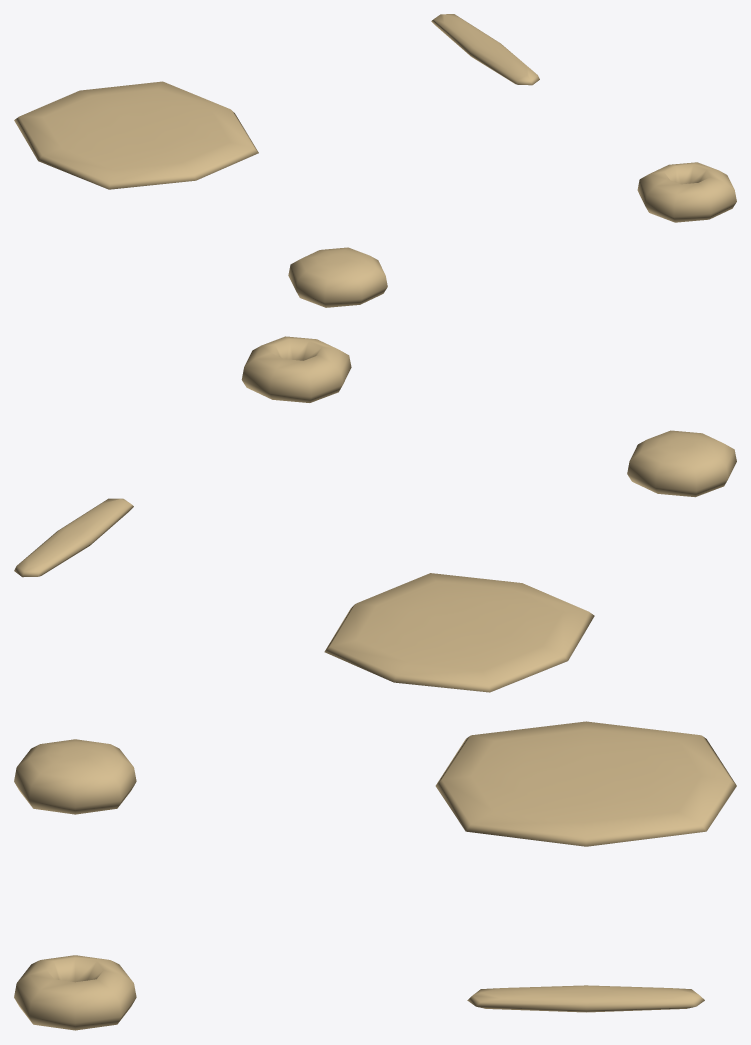
Rendered from dough.fbx.
3 views of the same model, one above another, from view 1: azimuth 30°, elevation 25°; view 2: azimuth 150°, elevation 25°; view 3: azimuth 270°, elevation 25° (orthographic). The views are drawn at different scales.
Visible parts, largest first — view 1: Dough_Flat, Dough_Round, Dough_Donut, Dough_Flat_Strip; view 2: Dough_Flat, Dough_Round, Dough_Donut, Dough_Flat_Strip; view 3: Dough_Flat, Dough_Donut, Dough_Round, Dough_Flat_Strip.
Boxes of the visible parts, x1,y1,x2,y2 form: Dough_Flat: [14, 81, 258, 189]; Dough_Round: [288, 247, 387, 307]; Dough_Donut: [637, 162, 736, 222]; Dough_Flat_Strip: [431, 14, 539, 85]; Dough_Flat: [324, 573, 594, 692]; Dough_Round: [627, 430, 736, 497]; Dough_Donut: [241, 336, 351, 402]; Dough_Flat_Strip: [14, 498, 133, 577]; Dough_Flat: [435, 721, 736, 846]; Dough_Donut: [14, 955, 136, 1030]; Dough_Round: [14, 739, 136, 814]; Dough_Flat_Strip: [467, 985, 704, 1012].
Size of the model in its own units: 1.4 by 0.0816 by 1.42.
